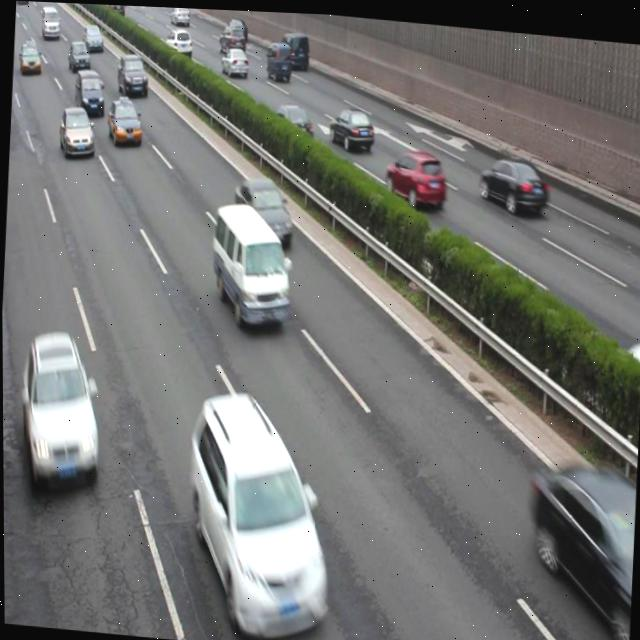car: (183, 389, 339, 638), (525, 454, 638, 625), (19, 330, 103, 488), (231, 174, 294, 244), (477, 152, 548, 214), (383, 145, 447, 207), (328, 104, 376, 151), (60, 103, 96, 158), (107, 96, 144, 145), (75, 66, 106, 116), (273, 101, 314, 138), (116, 53, 150, 97), (264, 40, 292, 81), (220, 45, 249, 77), (219, 22, 246, 56), (20, 39, 42, 75), (165, 27, 192, 55), (68, 38, 90, 72), (82, 23, 104, 50), (225, 15, 248, 39), (169, 6, 190, 26)
truck: (208, 201, 293, 329), (278, 29, 309, 67), (42, 4, 62, 40)
